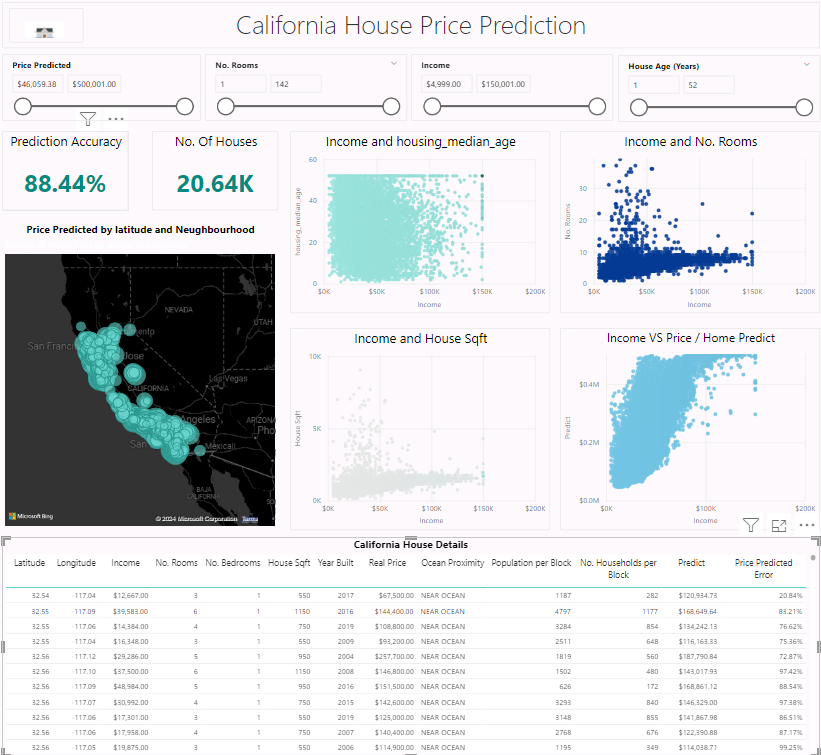

What the dashboard file says about the page in this screenshot:
{"tool":"powerbi","page":{"name":"Page 1","canvas":[1200,1100],"ordinal":0},"visuals":[{"type":"textbox","box":[7.4,6.5,1185.1,67],"z":0},{"type":"cardVisual","fields":{"Data":["Sum(housing.longitude)"]},"box":[17.7,14,108,50.3],"z":1000},{"type":"cardVisual","title":"Prediction Accuracy","fields":{"Data":["Min(housing.AvgAccuracy)"]},"box":[7.4,162.9,249.5,115.4],"z":2000},{"type":"scatterChart","fields":{"X":["housing.Income"],"Y":["housing.housing_median_age"]},"box":[269,162.9,455.2,294.2],"z":3000},{"type":"scatterChart","fields":{"X":["housing.Income"],"Y":["housing.No. Rooms"]},"box":[737.3,162.9,455.2,307.2],"z":4000},{"type":"map","title":"Price Predicted by latitude and Neughbourhood","fields":{"Y":["housing.latitude"],"X":["housing.longitude"],"Size":["Avg(housing.Predict)"]},"box":[7.4,470.1,716.8,300.7],"z":5000},{"type":"cardVisual","title":"No. Of Houses","fields":{"Data":["CountNonNull(housing.median_house_value)"]},"box":[7.4,324,249.5,133.1],"z":6000},{"type":"scatterChart","title":"Income VS Price / Home Predict","fields":{"X":["housing.Income"],"Y":["housing.Predict"]},"box":[737.3,470.1,455.2,300.7],"z":6001},{"type":"tableEx","title":"California House Details","fields":{"Values":["housing.latitude","housing.longitude","housing.Income","housing.No. Rooms","housing.No. Bedrooms","housing.Year Built","housing.median_house_value","housing.ocean_proximity","housing.population","housing.households","housing.Predict","housing.PercentageError"]},"box":[7.4,781.1,1185.1,319.3],"z":6002},{"type":"slicer","fields":{"Values":["housing.housing_median_age"]},"box":[899.3,73.5,300.7,85.6],"z":6003}]}

Visuals, with their boxes in screenshot pixels (x1, y1, x2, y2), scaled from the page's 1200x1100 canvas onto the 821x755 screenshot:
textbox: 5, 4, 816, 50
cardVisual - Sum(housing.longitude): 12, 10, 86, 44
"Prediction Accuracy" cardVisual: 5, 112, 176, 191
scatterChart - housing.Income x housing.housing_median_age: 184, 112, 495, 314
scatterChart - housing.Income x housing.No. Rooms: 504, 112, 816, 323
"Price Predicted by latitude and Neughbourhood" map: 5, 323, 495, 529
"No. Of Houses" cardVisual: 5, 222, 176, 314
"Income VS Price / Home Predict" scatterChart: 504, 323, 816, 529
"California House Details" tableEx: 5, 536, 816, 754
slicer - housing.housing_median_age: 615, 50, 820, 109
